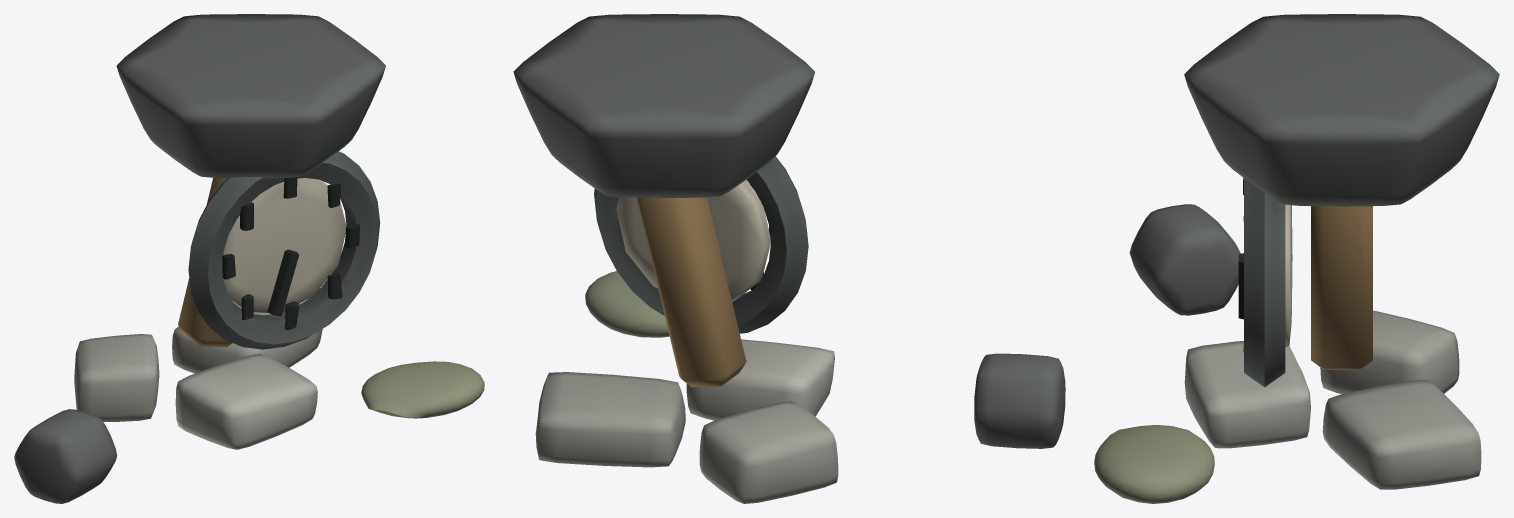
Rendered from rain_gauge_b.glb.
3 renders of one model, left to right at view 1: azimuth 30°, elevation 25°; view 2: azimuth 150°, elevation 25°; view 3: azimuth 270°, elevation 25°, orthographic. The views are drawn at different scales.
Visible parts, largest first — view 1: Surface; view 2: Surface; view 3: Surface.
Boxes of the visible parts, x1,y1,x2,y2 form: Surface: (14, 14, 484, 503); Surface: (513, 14, 1065, 503); Surface: (1094, 14, 1499, 503).
Size of the model in its own units: 1.92 by 1.39 by 1.31.
